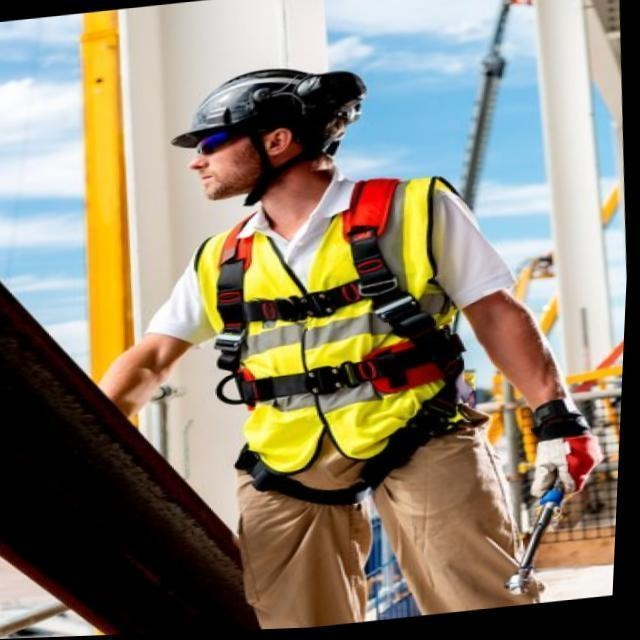Arnes_seguridad: (235, 173, 465, 520)
